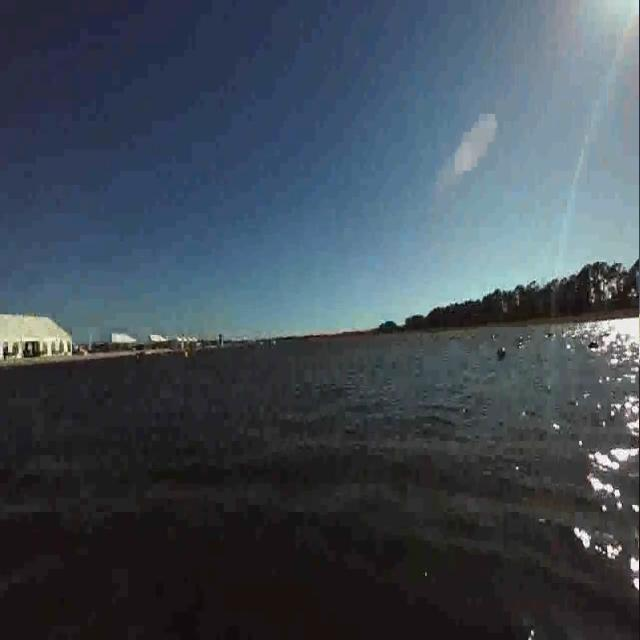black-buoy: (497, 341, 508, 363)
